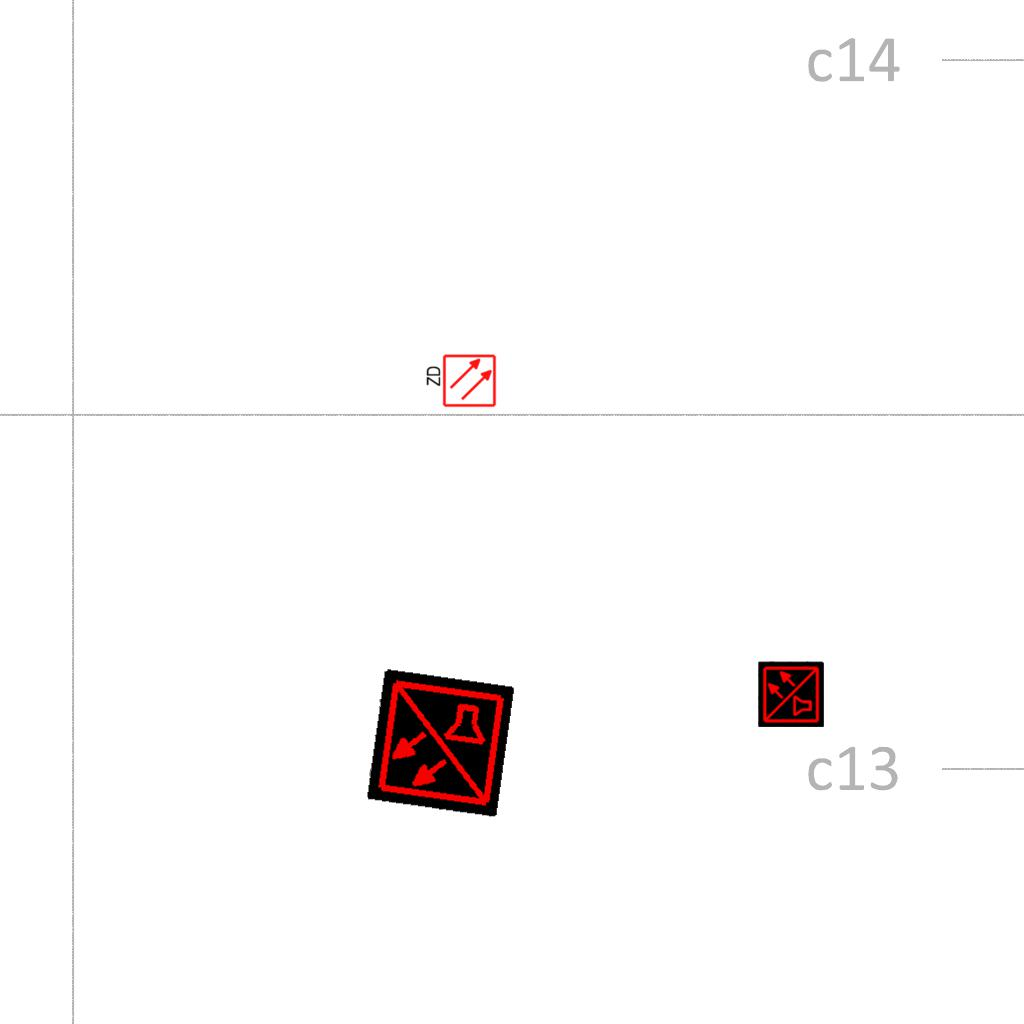OKW_Multisensormelder_(Kombination_optischer_Rauch-Kahlenmonoxid_Waerme-Melder): (365, 668, 515, 818), (758, 661, 824, 727)
ZD_Melder_in_Zwischendecke_mit_Revisionsoeffnung_mind_40_x_40_cm: (423, 353, 497, 410)
